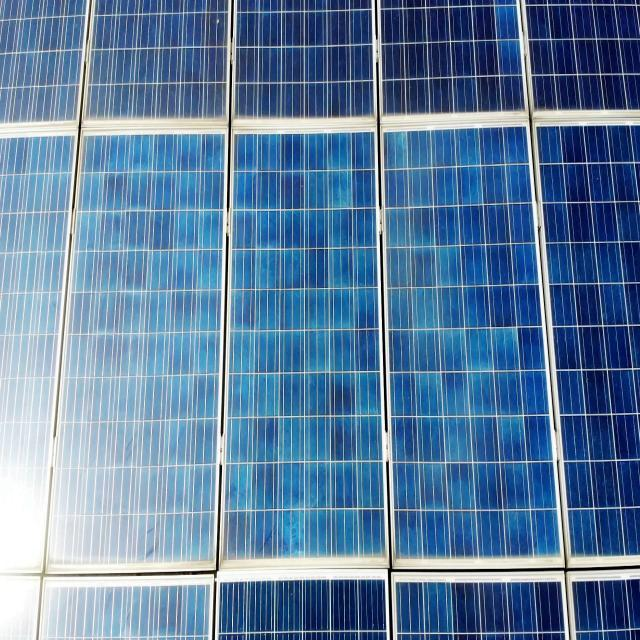no faulty: (42, 128, 224, 580), (391, 120, 568, 570), (0, 0, 640, 120), (230, 126, 393, 571)
